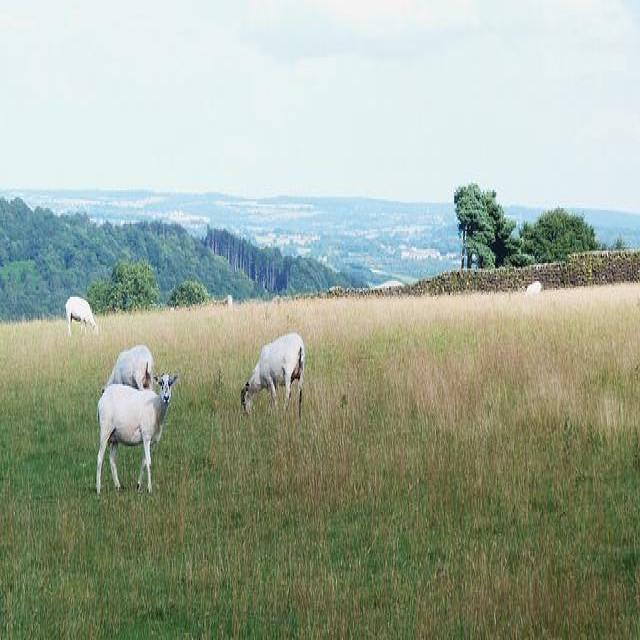Sheep: (96, 373, 179, 498), (241, 332, 305, 420)
